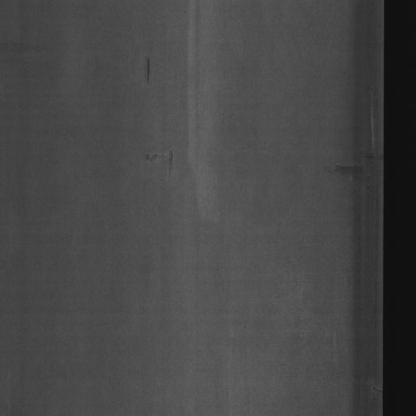rolled_pit: (308, 139, 384, 196), (133, 145, 184, 190), (140, 54, 158, 89)
